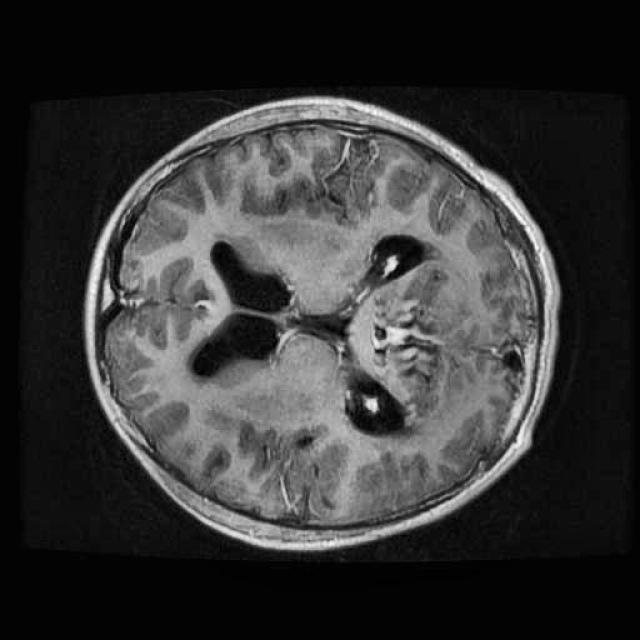Non-Tumor: (360, 281, 469, 426)
